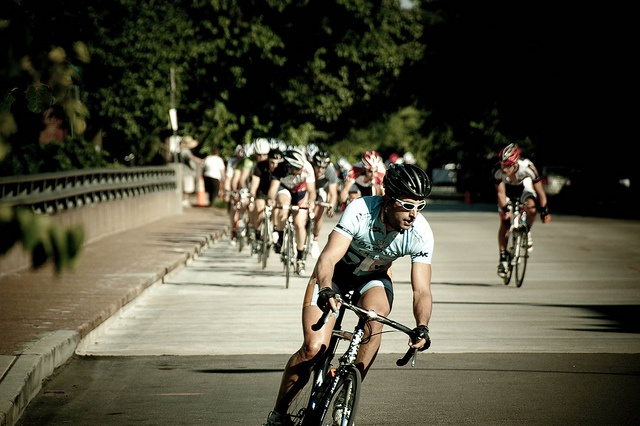non-vehicle: (285, 293, 430, 426), (276, 206, 308, 284), (502, 196, 527, 287), (303, 201, 331, 271), (257, 206, 279, 270), (235, 186, 250, 252)
